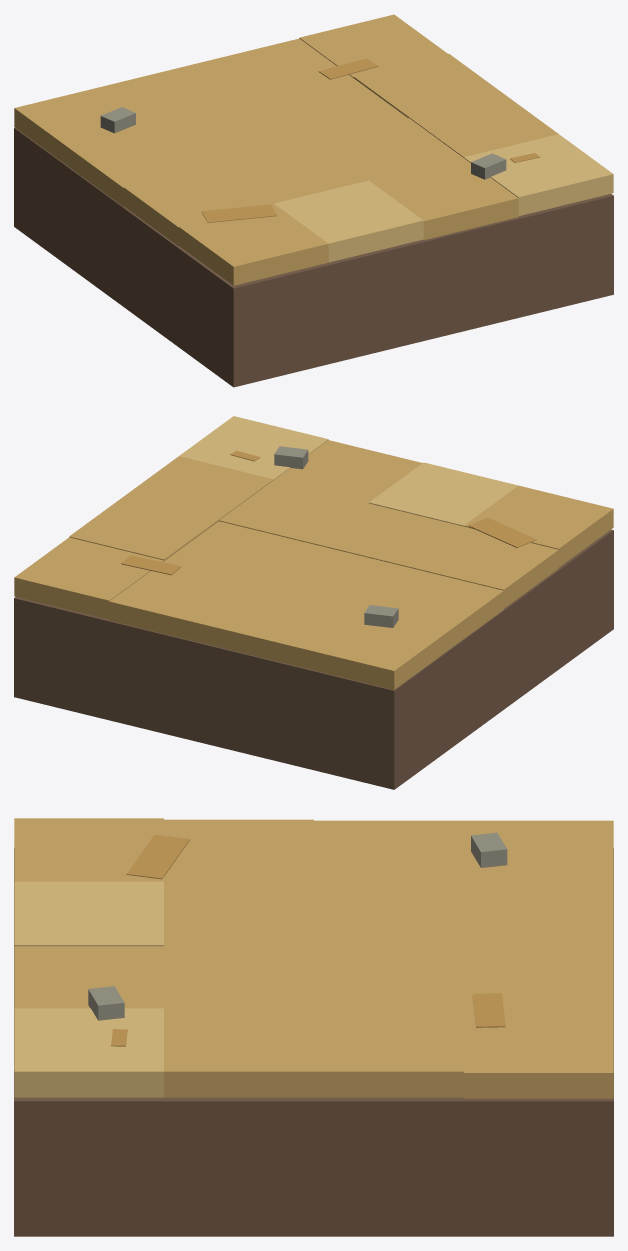
The model's file is sample_ground_2.glb.
3 renders of one model, top to bottom at view 1: azimuth 30°, elevation 25°; view 2: azimuth 150°, elevation 25°; view 3: azimuth 270°, elevation 25°, orthographic. The views are drawn at different scales.
Visible parts, largest first — view 1: earth_bank.002, packed_earth.044, packed_earth.045, packed_earth.046, packed_earth.047, packed_earth.036, packed_earth.040, packed_earth.032, packed_earth.039, packed_earth.043, packed_earth.033, packed_earth.042 (+9 smaller); view 2: earth_bank.002, packed_earth.032, packed_earth.033, packed_earth.034, packed_earth.035, packed_earth.040, packed_earth.036, packed_earth.044, packed_earth.039, packed_earth.041, packed_earth.045, packed_earth.042 (+9 smaller); view 3: earth_bank.002, packed_earth.039, packed_earth.043, packed_earth.035, packed_earth.047, packed_earth.045, packed_earth.033, packed_earth.036, packed_earth.037, packed_earth.041, packed_earth.042, packed_earth.038 (+9 smaller).
Boxes of the visible parts, <box> form: earth_bank.002: <box>14,127,613,387</box>; packed_earth.044: <box>179,203,328,285</box>; packed_earth.045: <box>274,180,423,262</box>; packed_earth.046: <box>370,158,518,240</box>; packed_earth.047: <box>464,134,613,215</box>; packed_earth.036: <box>69,125,217,206</box>; packed_earth.040: <box>124,164,272,246</box>; packed_earth.032: <box>14,85,163,166</box>; packed_earth.039: <box>354,54,503,117</box>; packed_earth.043: <box>409,94,558,157</box>; packed_earth.033: <box>109,61,258,124</box>; packed_earth.042: <box>314,118,463,180</box>; earth_bank.002: <box>14,529,613,789</box>; packed_earth.032: <box>299,607,448,689</box>; packed_earth.033: <box>204,584,353,666</box>; packed_earth.034: <box>109,561,258,643</box>; packed_earth.035: <box>14,537,163,619</box>; packed_earth.040: <box>409,526,558,608</box>; packed_earth.036: <box>354,567,503,649</box>; packed_earth.044: <box>464,485,613,567</box>; packed_earth.039: <box>69,496,218,560</box>; packed_earth.041: <box>314,503,463,567</box>; packed_earth.045: <box>369,462,518,526</box>; packed_earth.042: <box>219,480,368,544</box>; earth_bank.002: <box>14,848,613,1236</box>; packed_earth.039: <box>314,1008,463,1097</box>; packed_earth.043: <box>164,1008,313,1097</box>; packed_earth.035: <box>464,1009,613,1098</box>; packed_earth.047: <box>14,1008,163,1097</box>; packed_earth.045: <box>14,881,163,946</box>; packed_earth.033: <box>464,884,613,947</box>; packed_earth.036: <box>314,820,463,883</box>; packed_earth.037: <box>314,884,463,947</box>; packed_earth.041: <box>164,883,313,946</box>; packed_earth.042: <box>164,946,313,1008</box>; packed_earth.038: <box>314,947,463,1008</box>.
Bounding box in the file's own units: 0.925 × 0.3055 × 0.925.
